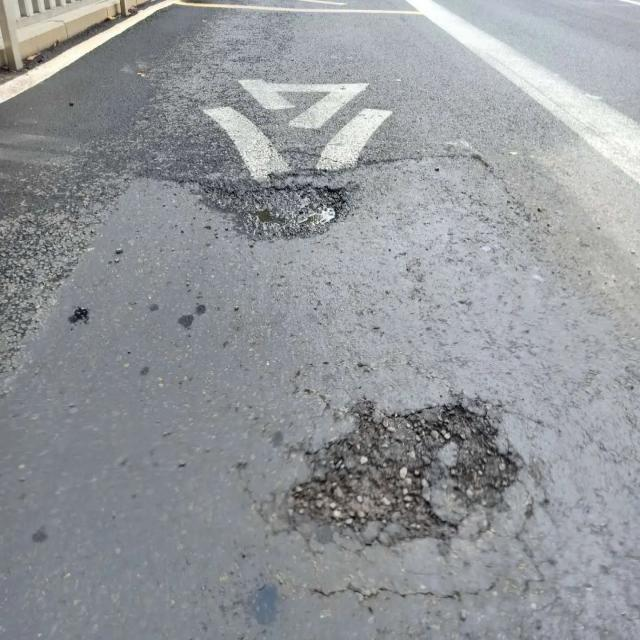Pothole: (283, 406, 521, 542), (188, 176, 350, 242)
